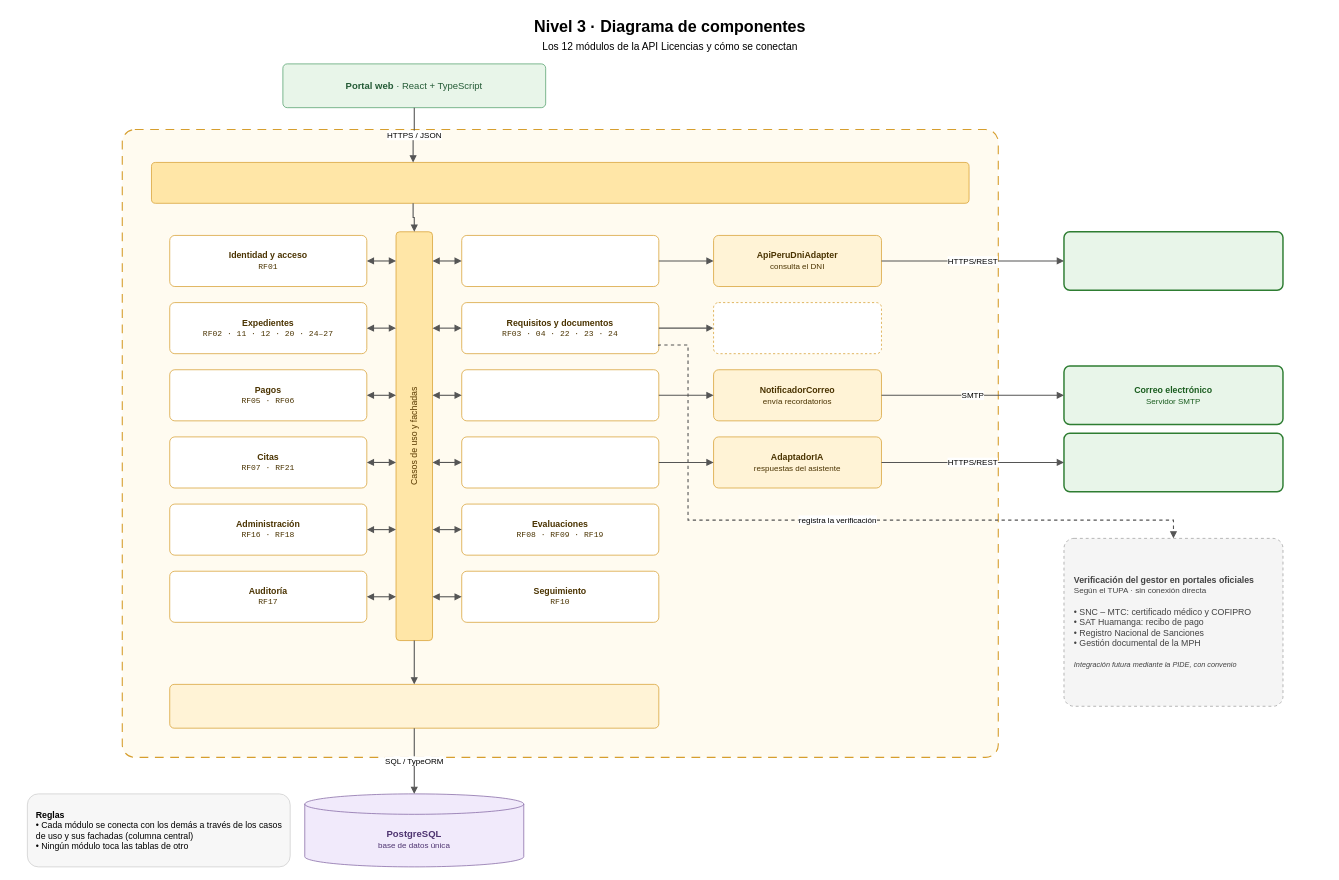
This 1339x880 diagram has some shape labels left out. The box of each missing label's shape, as (x1, y1, x2, y2) in pixels:
API Licencias [Contenedor: NestJS] · monolito modular: (121, 129, 998, 758)
API Perú Consulta de datos del DNI: (1063, 231, 1283, 291)
API REST y seguridad · rutas /api/v1 · JWT por roles · validación de la entrada: (151, 162, 969, 203)
Asistente virtual RF14 · RF15: (461, 436, 659, 488)
Caché en memoria requisitos públicos: (713, 302, 881, 354)
IA de orientación Modelo de lenguaje: (1063, 432, 1283, 492)
Notificaciones RF13 · RF23: (461, 369, 659, 421)
Postulantes RF03 · RF04: (461, 235, 659, 287)
Repositorios TypeORM · cada módulo lee y escribe solo sus propias tablas: (169, 684, 659, 728)
